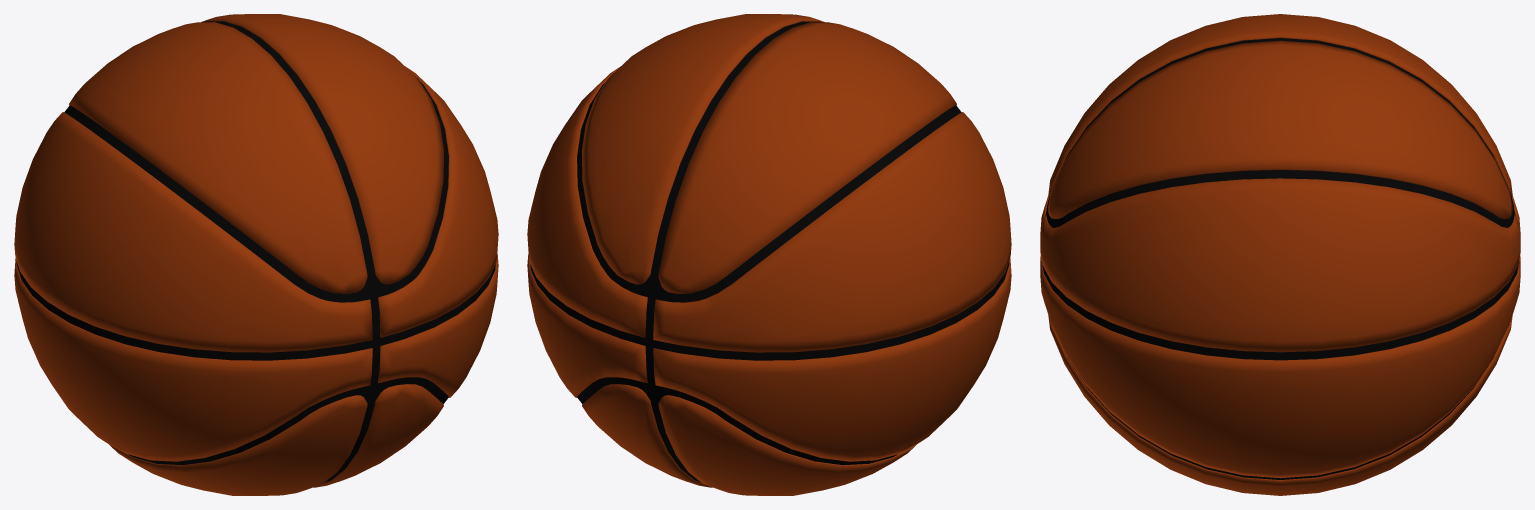
File: Basketball.FBX
3 renders of one model, left to right at view 1: azimuth 30°, elevation 25°; view 2: azimuth 150°, elevation 25°; view 3: azimuth 270°, elevation 25°, orthographic.
Visible parts, largest first — view 1: leather, seam; view 2: leather, seam; view 3: leather, seam.
Part boxes in pixels (x1,y1,x2,y2): leather: [14, 14, 498, 495]; seam: [16, 21, 495, 482]; leather: [527, 14, 1011, 495]; seam: [530, 21, 1009, 482]; leather: [1040, 14, 1520, 495]; seam: [1041, 38, 1519, 479].
Bounding box in the file's own units: 6.52 × 6.47 × 6.49.
